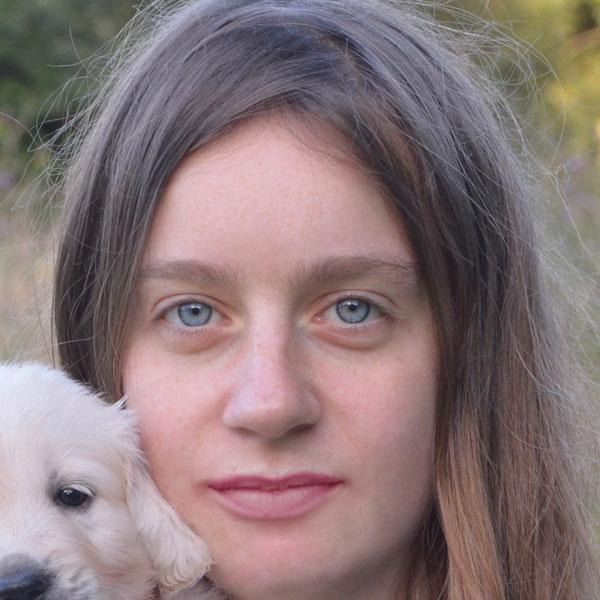Eyes: (298, 280, 405, 344), (139, 282, 236, 346)
